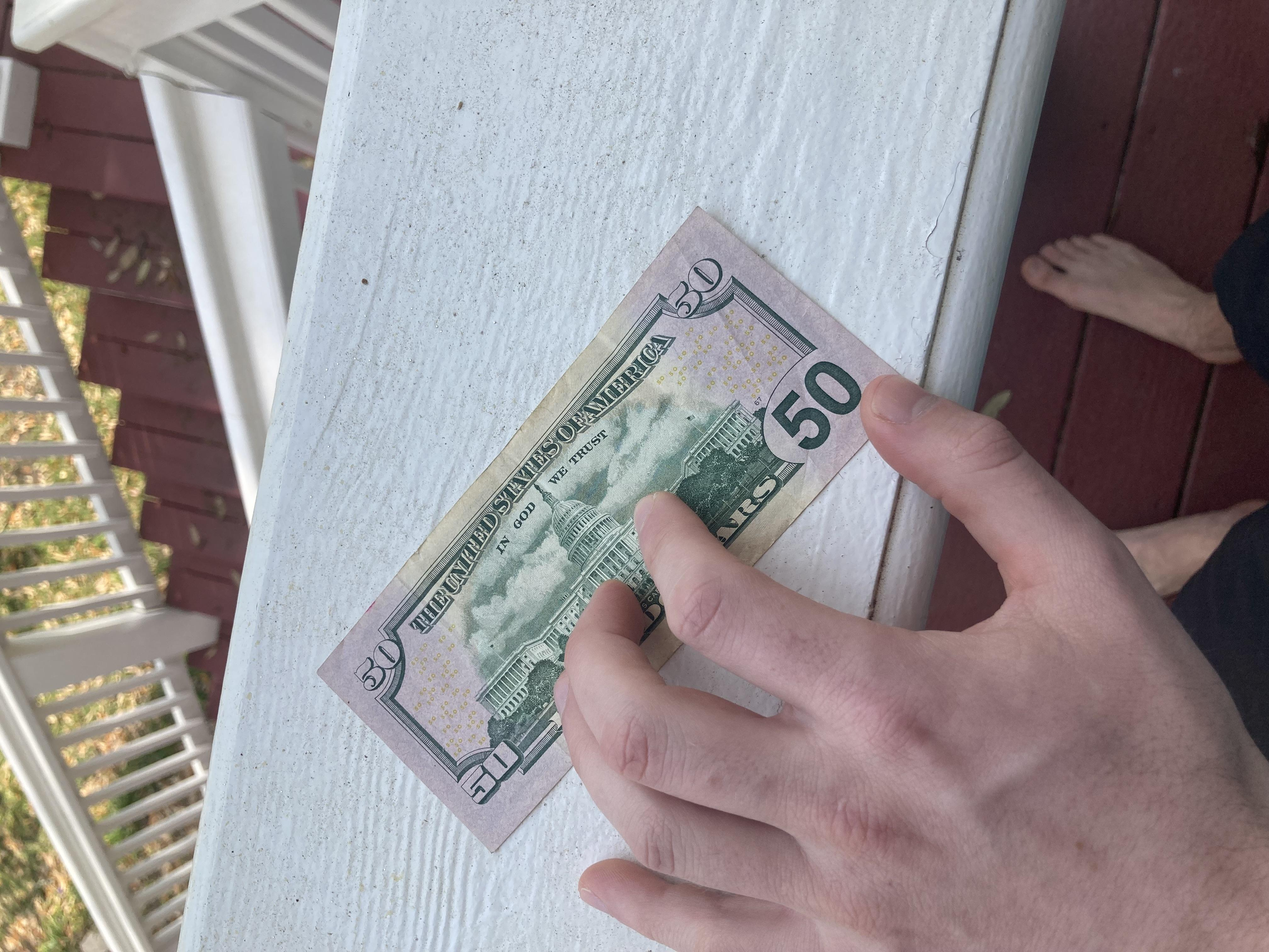fifty-back: (136, 236, 997, 686)
